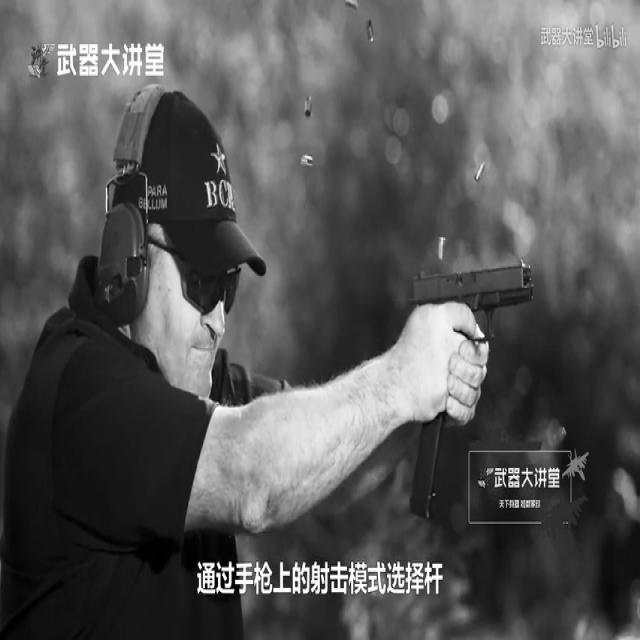Sub-machine-gun: (361, 165, 568, 560)
